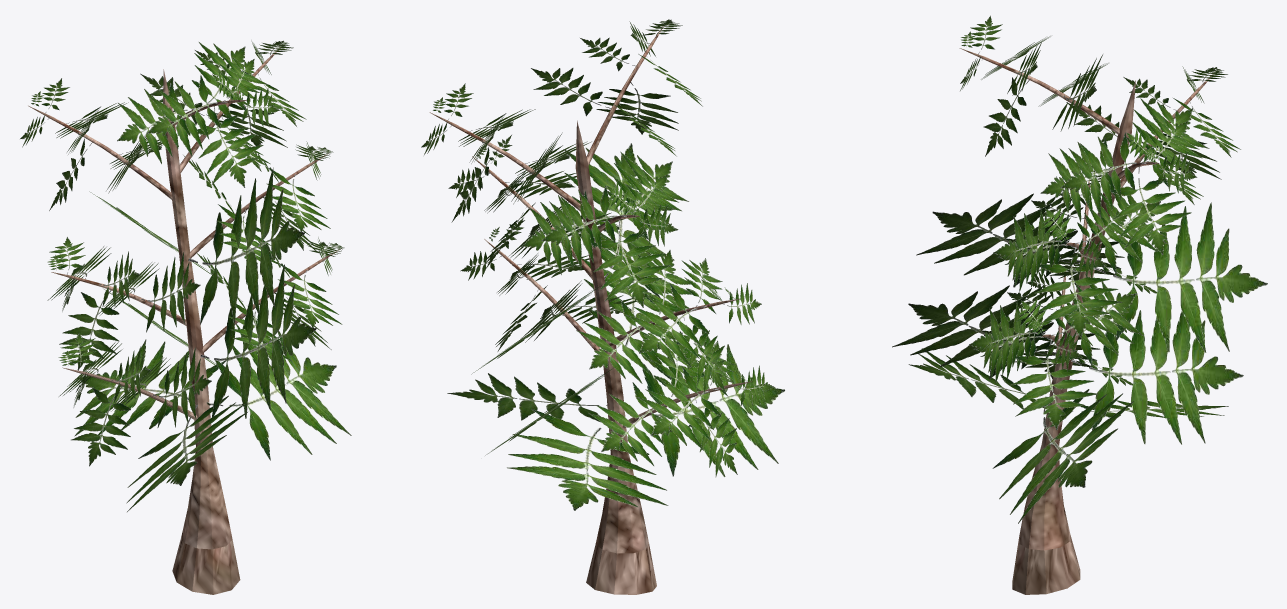
File: Neem tree.fbx
3 renders of one model, left to right at view 1: azimuth 30°, elevation 25°; view 2: azimuth 150°, elevation 25°; view 3: azimuth 270°, elevation 25°, orthographic. The views are drawn at different scales.
Visible parts, largest first — view 1: pCylinder1, neem_leaf_14, neem_leaf_2, neem_leaf_1, neem_leaf_4, neem_leaf_3, neem_leaf_9, neem_leaf_43, neem_leaf_45, neem_leaf_49, neem_leaf_17, neem_leaf_48 (+21 smaller); view 2: pCylinder1, neem_leaf_4, neem_leaf_3, neem_leaf_14, neem_leaf_1, neem_leaf_21, neem_leaf_53, neem_leaf_35, neem_leaf_37, neem_leaf_22, neem_leaf_54, neem_leaf_2 (+22 smaller); view 3: pCylinder1, neem_leaf_13, neem_leaf_, neem_leaf_1, neem_leaf_2, neem_leaf_14, neem_leaf_58, neem_leaf_26, neem_leaf_31, neem_leaf_10, neem_leaf_61, neem_leaf_29 (+22 smaller).
Boxes of the visible parts, x1=… form: pCylinder1: x1=162, y1=69, x2=240, y2=594; neem_leaf_14: x1=188, y1=167, x2=305, y2=324; neem_leaf_2: x1=200, y1=264, x2=316, y2=418; neem_leaf_1: x1=206, y1=316, x2=351, y2=460; neem_leaf_4: x1=74, y1=339, x2=226, y2=436; neem_leaf_3: x1=126, y1=395, x2=247, y2=511; neem_leaf_9: x1=147, y1=75, x2=227, y2=156; neem_leaf_43: x1=197, y1=106, x2=263, y2=187; neem_leaf_45: x1=117, y1=82, x2=200, y2=163; neem_leaf_49: x1=71, y1=386, x2=130, y2=466; neem_leaf_17: x1=141, y1=252, x2=200, y2=332; neem_leaf_48: x1=153, y1=347, x2=211, y2=427; pCylinder1: x1=575, y1=120, x2=656, y2=594; neem_leaf_4: x1=507, y1=409, x2=668, y2=510; neem_leaf_3: x1=624, y1=322, x2=784, y2=476; neem_leaf_14: x1=564, y1=143, x2=678, y2=298; neem_leaf_1: x1=447, y1=373, x2=607, y2=422; neem_leaf_21: x1=625, y1=283, x2=709, y2=367; neem_leaf_53: x1=637, y1=366, x2=721, y2=450; neem_leaf_35: x1=541, y1=185, x2=626, y2=269; neem_leaf_37: x1=591, y1=220, x2=671, y2=307; neem_leaf_22: x1=576, y1=299, x2=659, y2=383; neem_leaf_54: x1=588, y1=382, x2=671, y2=465; neem_leaf_2: x1=578, y1=232, x2=688, y2=379; pCylinder1: x1=1012, y1=80, x2=1135, y2=594; neem_leaf_13: x1=1094, y1=202, x2=1267, y2=352; neem_leaf_: x1=1071, y1=310, x2=1243, y2=444; neem_leaf_1: x1=992, y1=389, x2=1133, y2=523; neem_leaf_2: x1=892, y1=285, x2=1056, y2=378; neem_leaf_14: x1=916, y1=193, x2=1084, y2=287; neem_leaf_58: x1=1010, y1=339, x2=1098, y2=429; neem_leaf_26: x1=1034, y1=247, x2=1122, y2=338; neem_leaf_31: x1=1060, y1=132, x2=1146, y2=216; neem_leaf_10: x1=1111, y1=166, x2=1191, y2=255; neem_leaf_61: x1=968, y1=302, x2=1049, y2=379; neem_leaf_29: x1=993, y1=210, x2=1073, y2=287.
Bounding box in the file's own units: 1.05 × 1.73 × 1.18.
Materials: 2 (2 with a texture image).
